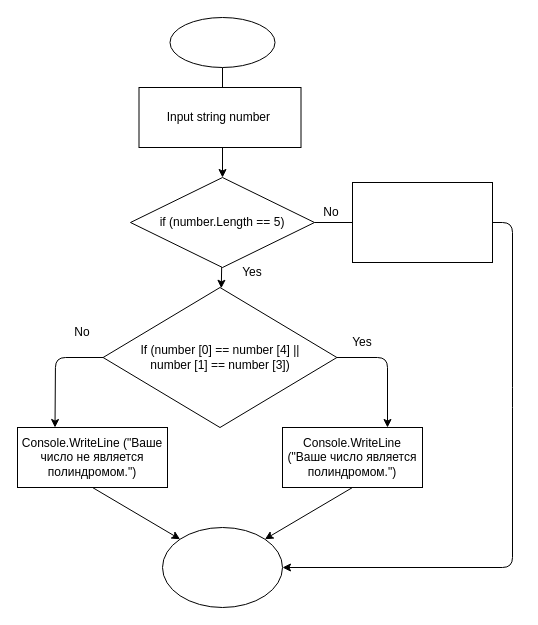
This 538x625 diagram has some shape labels left out. Here are the shapes that lost their labels. From the top down, the box of each, then its label:
(169, 16, 275, 68): Start
(352, 182, 492, 262): Console.WriteLine ("Введите правильное число.")
(162, 526, 282, 608): End
